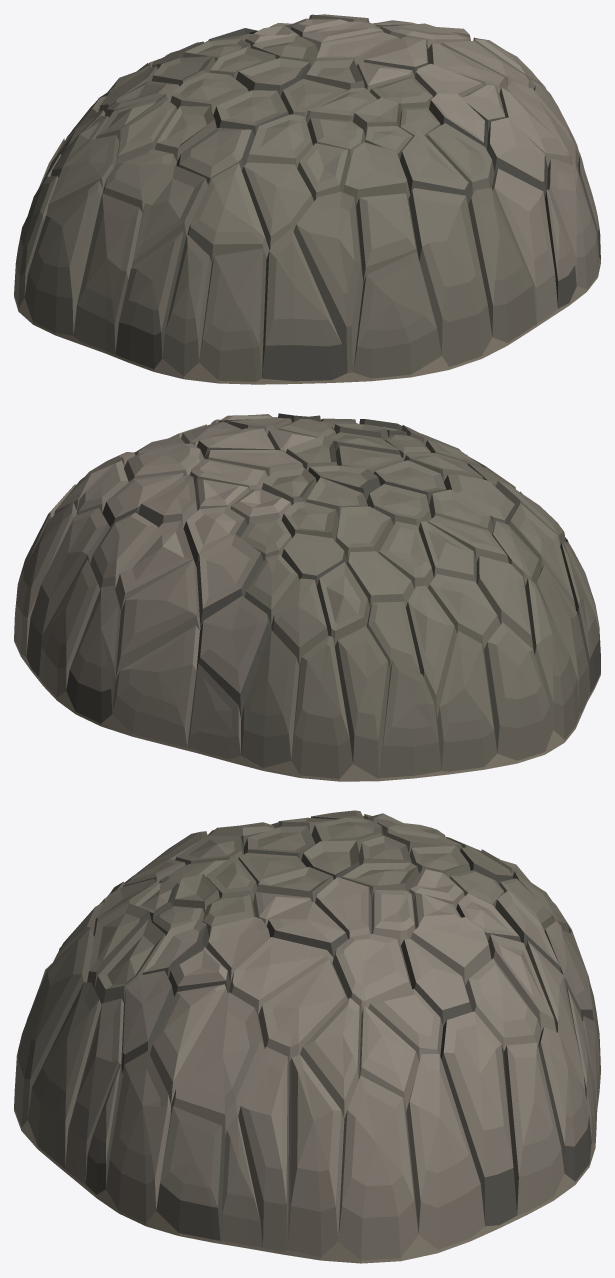
The picture shows the model from 3 angles, top to bottom: view 1: azimuth 30°, elevation 25°; view 2: azimuth 150°, elevation 25°; view 3: azimuth 270°, elevation 25°; orthographic projection. The views are drawn at different scales.
Visible parts, largest first — view 1: single_welded_bulbous_dome_coarse_fractured_summit_and_flank; view 2: single_welded_bulbous_dome_coarse_fractured_summit_and_flank; view 3: single_welded_bulbous_dome_coarse_fractured_summit_and_flank.
Boxes of the visible parts, x1,y1,x2,y2 form: single_welded_bulbous_dome_coarse_fractured_summit_and_flank: [14, 14, 600, 384]; single_welded_bulbous_dome_coarse_fractured_summit_and_flank: [14, 413, 600, 781]; single_welded_bulbous_dome_coarse_fractured_summit_and_flank: [14, 810, 600, 1263].
Bounding box in the file's own units: 123 × 45.44 × 101.
